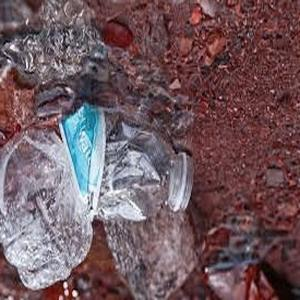Plastic: (0, 107, 197, 289)
